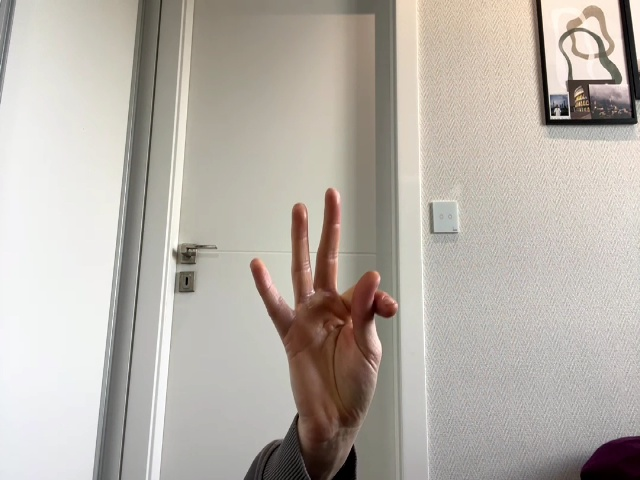T: (250, 188, 398, 413)
